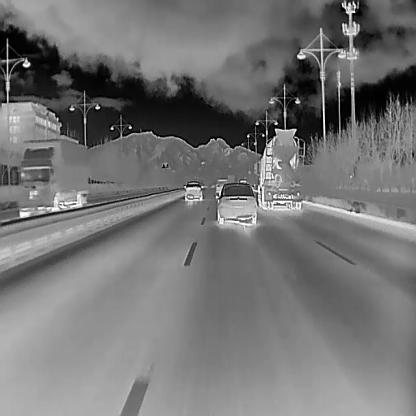car: (18, 140, 88, 219), (256, 128, 302, 209), (214, 182, 255, 225), (182, 181, 203, 202), (214, 178, 227, 199)
